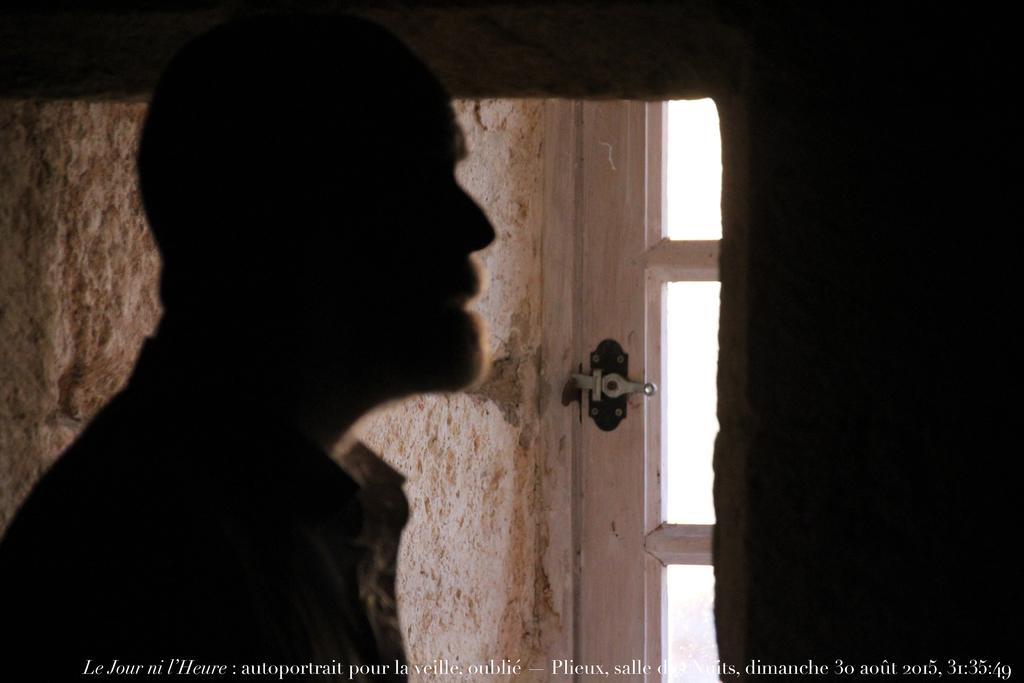handle: (571, 371, 653, 414)
